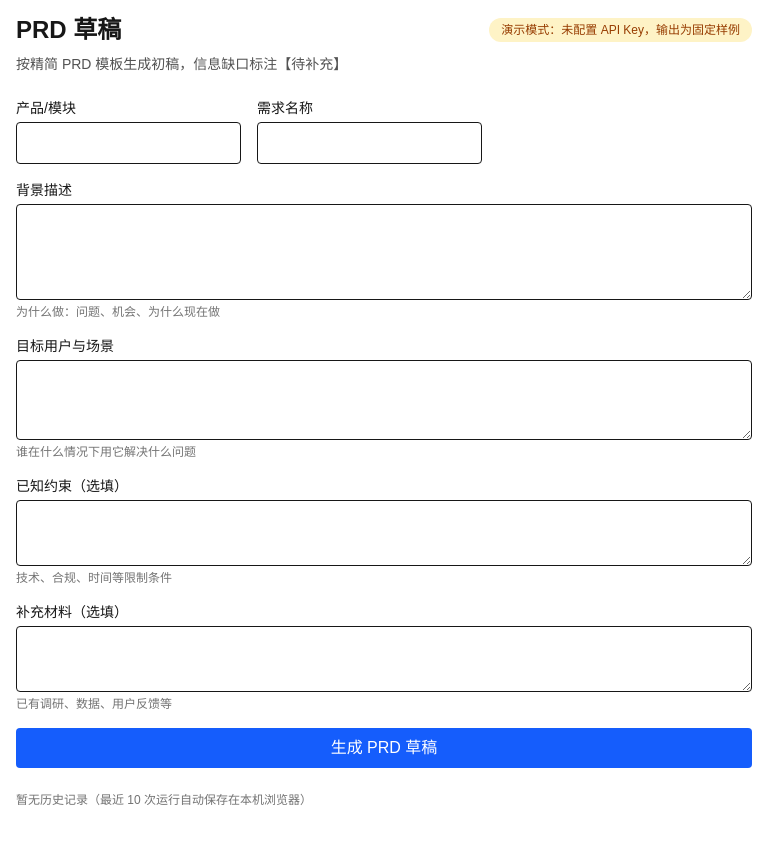
Test case: ToolWorkbench › 超预算错误显示可读文案（不含内部测量值）
Type "随手记账" into the field labelled "产品/模块".
click(128, 143); type("随手记账")  # box [16, 122, 241, 164]
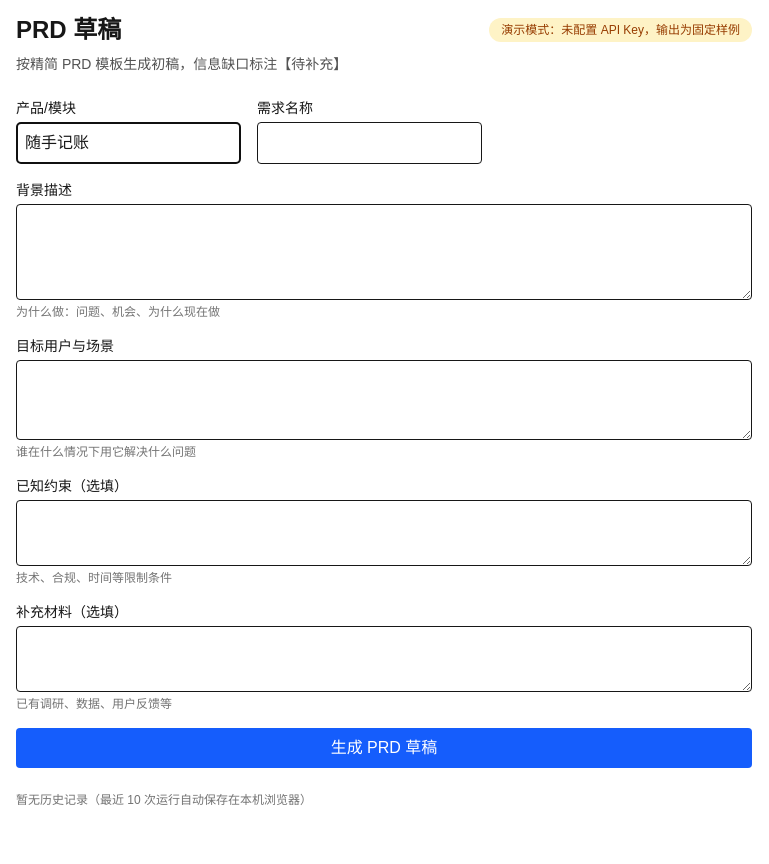
Type "月度报告导出 PDF" into the field labelled "需求名称".
click(370, 143); type("月度报告导出 PDF")  # box [257, 122, 482, 164]
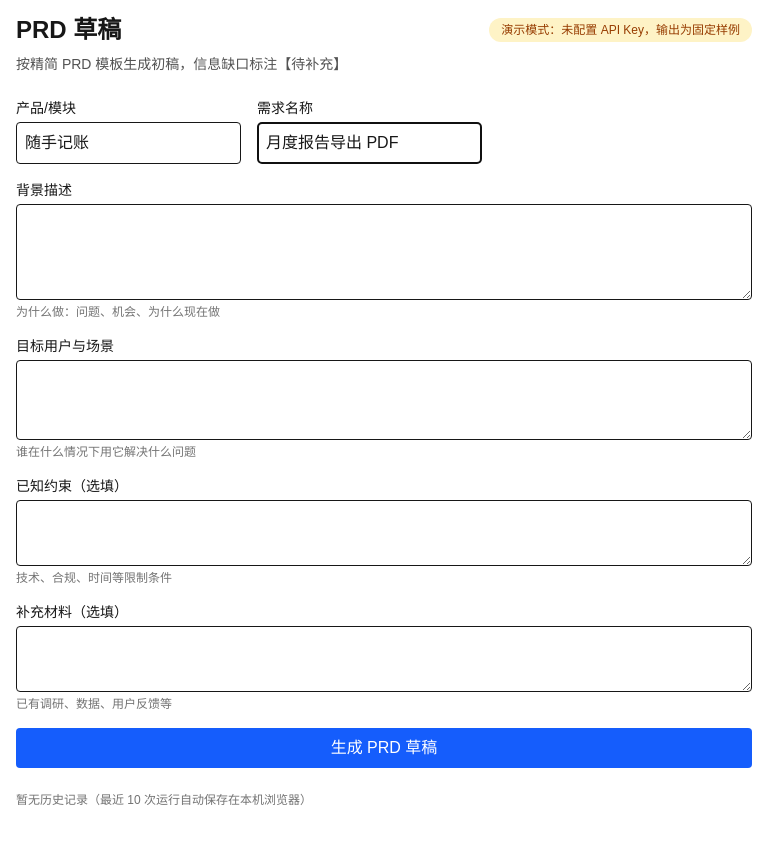
Type "用户只能截图分享报告，排版差" into the text box labelled "背景描述".
click(384, 252); type("用户只能截图分享报告，排版差")  # box [16, 204, 752, 300]
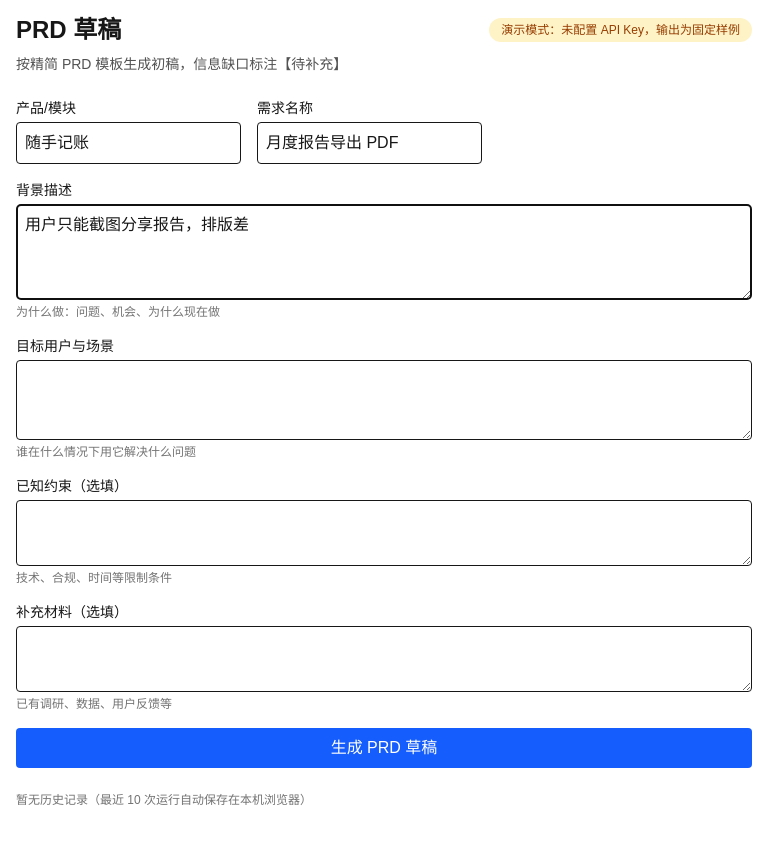
Type "大学生月底分享报告给家人" into the text box labelled "目标用户与场景".
click(384, 400); type("大学生月底分享报告给家人")  # box [16, 360, 752, 440]
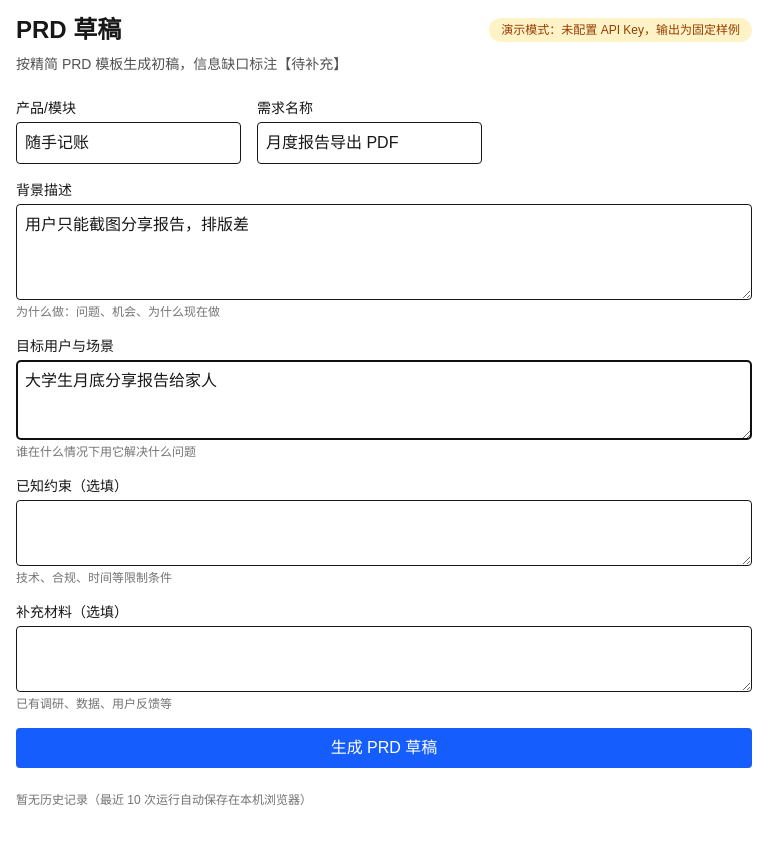
Click the button "生成 PRD 草稿".
click(384, 748)  # box [16, 728, 752, 768]
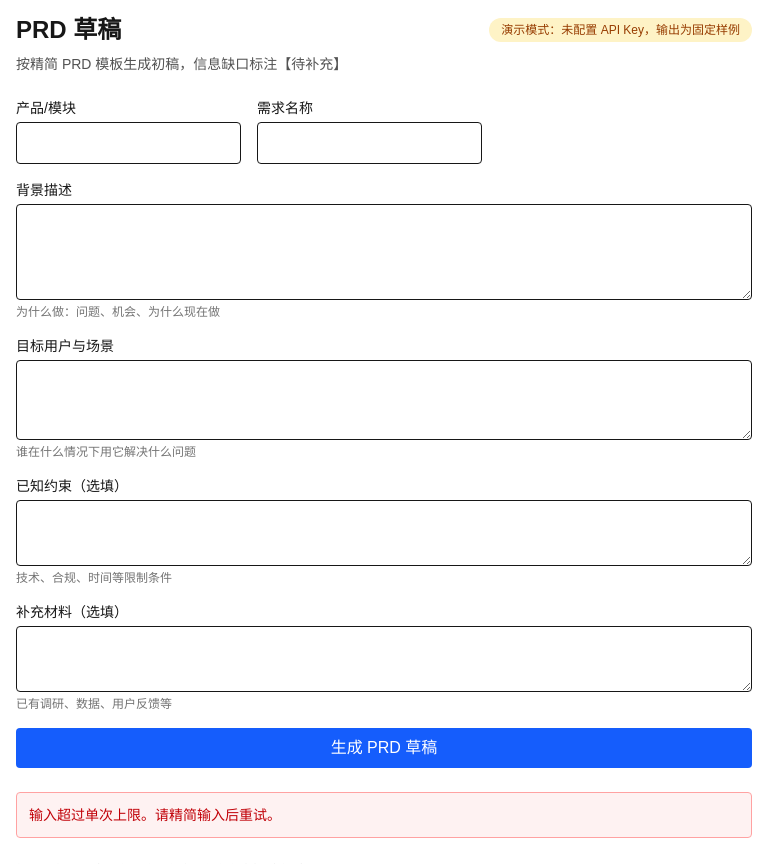
expect the message reads "输入超过单次上限。请精简输入后重试。": met, box [29, 807, 281, 823]
